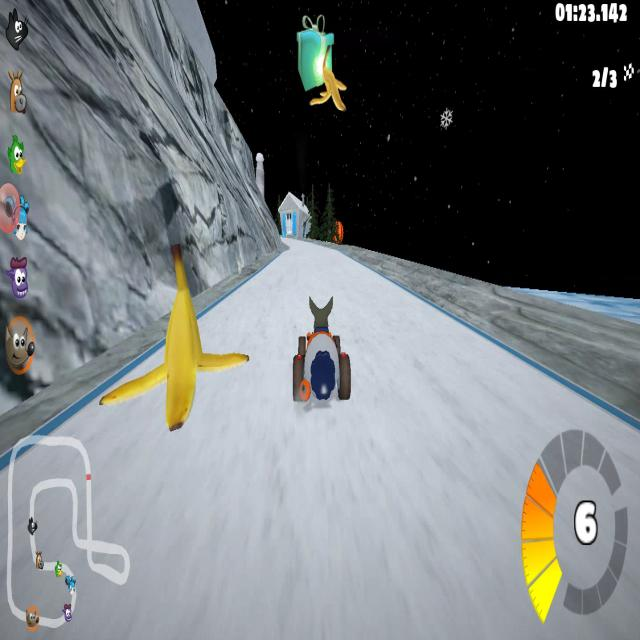player_kart: (288, 299, 353, 412)
track: (1, 469, 640, 640), (288, 417, 640, 465), (46, 428, 248, 472), (417, 340, 510, 416), (356, 297, 415, 412), (510, 376, 604, 420), (268, 266, 287, 443), (248, 282, 266, 463), (285, 248, 334, 298), (335, 263, 370, 293), (368, 270, 399, 295), (417, 316, 471, 330), (284, 236, 305, 249)
